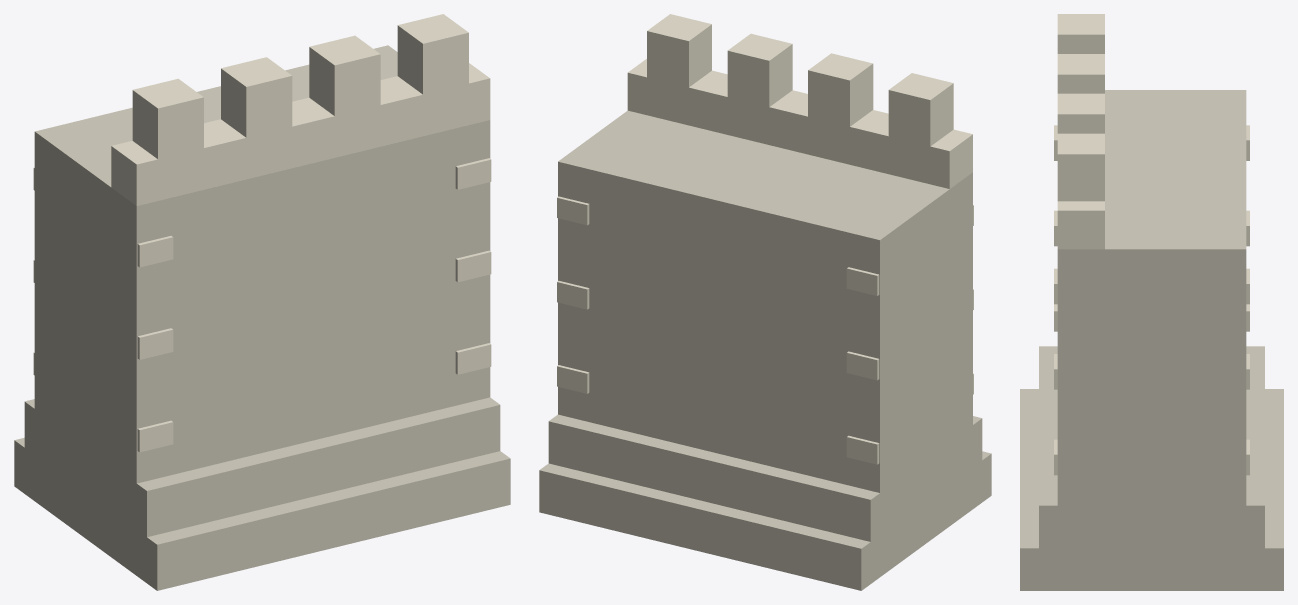
The model's file is curtain-splayed-base.glb.
The picture shows the model from 3 angles, left to right: view 1: azimuth 30°, elevation 25°; view 2: azimuth 150°, elevation 25°; view 3: azimuth 270°, elevation 25°; orthographic projection. The views are drawn at different scales.
Visible parts, largest first — view 1: curtain-splayed-base; view 2: curtain-splayed-base; view 3: curtain-splayed-base.
Part boxes in pixels (left/top/right/bottom): curtain-splayed-base: left=14, top=14, right=510, bottom=590; curtain-splayed-base: left=539, top=14, right=991, bottom=590; curtain-splayed-base: left=1020, top=14, right=1283, bottom=590.
Size of the model in its own units: 4 by 5 by 2.8.
